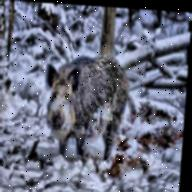boar: (28, 36, 157, 182)
